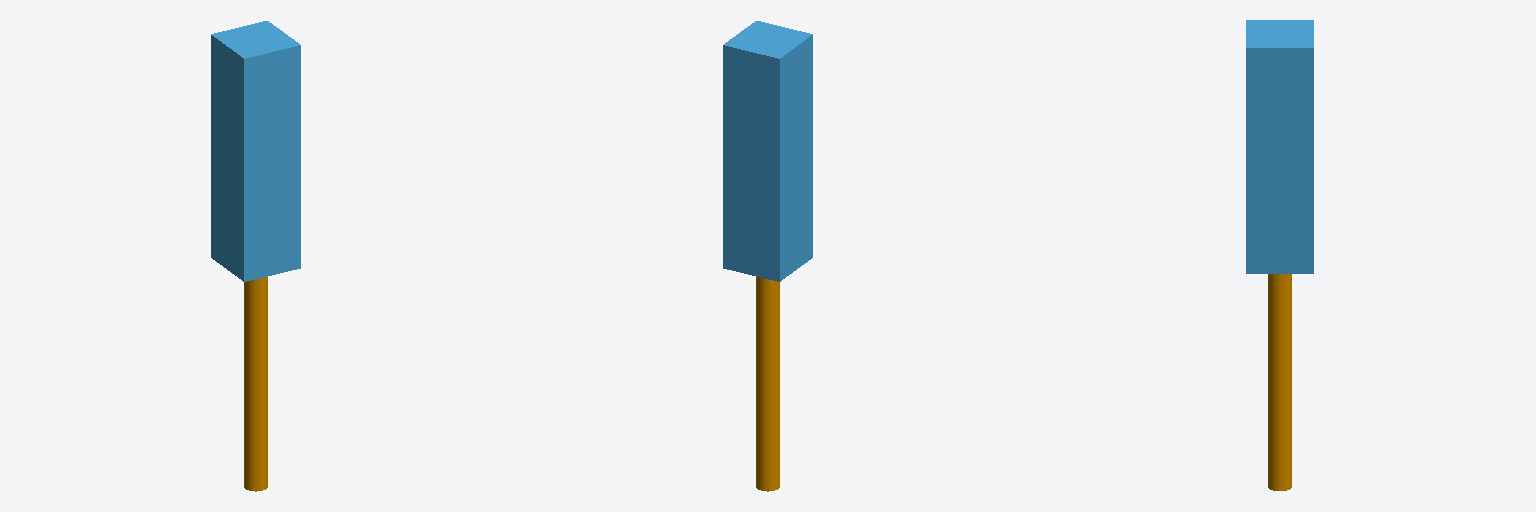
robot.urdf — screwdriver_on_the_table:
<?xml version="1.0" ?>
<!-- this is the one without any virtual joints and links -->
<robot name="screwdriver_on_the_table">
<link name="screwdriver_stick">
    <inertial>
      <mass value="0.05"/>
      <!-- <friction value="1.0"/> -->
      <inertia ixx="0.000041979" ixy="0.0" ixz="0.0" iyy="0.000041979" iyz="0.0" izz="0.000000625"/>
    </inertial>
    <visual>
        <origin rpy="0 0 0" xyz="0 0 0.05"/>
        <geometry>
            <cylinder radius="0.005" length="0.1"/>
        </geometry>
        <!-- <material name="White">
	 	    <color rgba="0.9 0.9 0.9 0.5"/>
        </material> -->
    </visual>
    <collision>
        <origin rpy="0 0 0" xyz="0 0 0.05"/>
        <geometry>
            <cylinder radius="0.005" length="0.1"/>
        </geometry>
    </collision>
</link>

<gazebo reference="screwdriver_body">
    <mu1>1.214355</mu1>
    <mu2>0.909218</mu2>
    <!-- Isaac Sim maps mu1/mu2 to PhysX static/dynamic friction during URDF→USD import -->
</gazebo>

<joint name="screwdriver_stick_body_joint" type="fixed">
    <parent link="screwdriver_stick"/>
    <child link="screwdriver_body"/>
    <origin rpy="0 0 0" xyz="0 0 0.1"/> 
    <axis xyz="0 0 1"/>
</joint>

<link name="screwdriver_body">
    <inertial>
      <mass value="0.195783"/>
      <inertia ixx="0.000175279" ixy="0.0" ixz="0.0" iyy="0.000174693" iyz="0.0" izz="0.000023667"/>
    </inertial>
    <visual>
        <origin rpy="0 0 0" xyz="0 0 0.05"/>
        <geometry>
            <box size="0.026596 0.027263 0.100000"/>
        </geometry>
        <!-- <material name="Red1">
	 	    <color rgba="0.9 0. 0. 0.5"/>
        </material> -->
    </visual>
    <collision>
        <origin rpy="0 0 0" xyz="0 0 0.05"/>
        <geometry>
            <box size="0.026596 0.027263 0.100000"/>
        </geometry>
    </collision>
</link>

<!-- <joint name="screwdriver_body_cap_joint" type="revolute">
    <parent link="screwdriver_body"/>
    <child link="screwdriver_cap"/>
    <origin rpy="0 0 0" xyz="0 0 0.1"/> 
    <axis xyz="0 0 1"/>
</joint>

<link name="screwdriver_cap">
    <inertial>
      <mass value="0.005"/>
      <inertia ixx="0.00001" ixy="0.0" ixz="0.0" iyy="0.000005" iyz="0.0" izz="0.000005"/>
    </inertial>
    <visual>
        <origin rpy="0 0 0" xyz="0 0 0.0006"/>
        <geometry>
            <cylinder radius="0.02" length="0.001"/>
        </geometry>
        <material name="Yellow">
	 	    <color rgba="0.9 0.9 0. 1.0"/>
        </material>
    </visual>
    <collision>
        <origin rpy="0 0 0" xyz="0 0 0.0005"/>
        <geometry>
            <cylinder radius="0.02" length="0.001"/>
        </geometry>
    </collision>
</link> -->

</robot>

--- What the picture shows (computed from the rendered views, not written in the file) ---
3 views of the same robot in one strip: view 1: azimuth 30°, elevation 25°; view 2: azimuth 150°, elevation 25°; view 3: azimuth 270°, elevation 25° (orthographic).
Robot: screwdriver_on_the_table — 2 links, 1 joints (1 fixed); root link screwdriver_stick; default pose: all joints at 0.
Links seen in each view (by area): view 1: screwdriver_body, screwdriver_stick; view 2: screwdriver_body, screwdriver_stick; view 3: screwdriver_body, screwdriver_stick.
Boxes of the visible links, bbox=[...] form: screwdriver_body: bbox=[211, 21, 300, 281]; screwdriver_stick: bbox=[244, 277, 267, 491]; screwdriver_body: bbox=[723, 21, 812, 281]; screwdriver_stick: bbox=[756, 277, 779, 491]; screwdriver_body: bbox=[1246, 20, 1313, 273]; screwdriver_stick: bbox=[1268, 274, 1291, 490].
Bounding box of the posed robot: 0.0266 × 0.0273 × 0.2 m (x, y, z).
Geometry: primitives only (box / cylinder / sphere), no mesh files.
